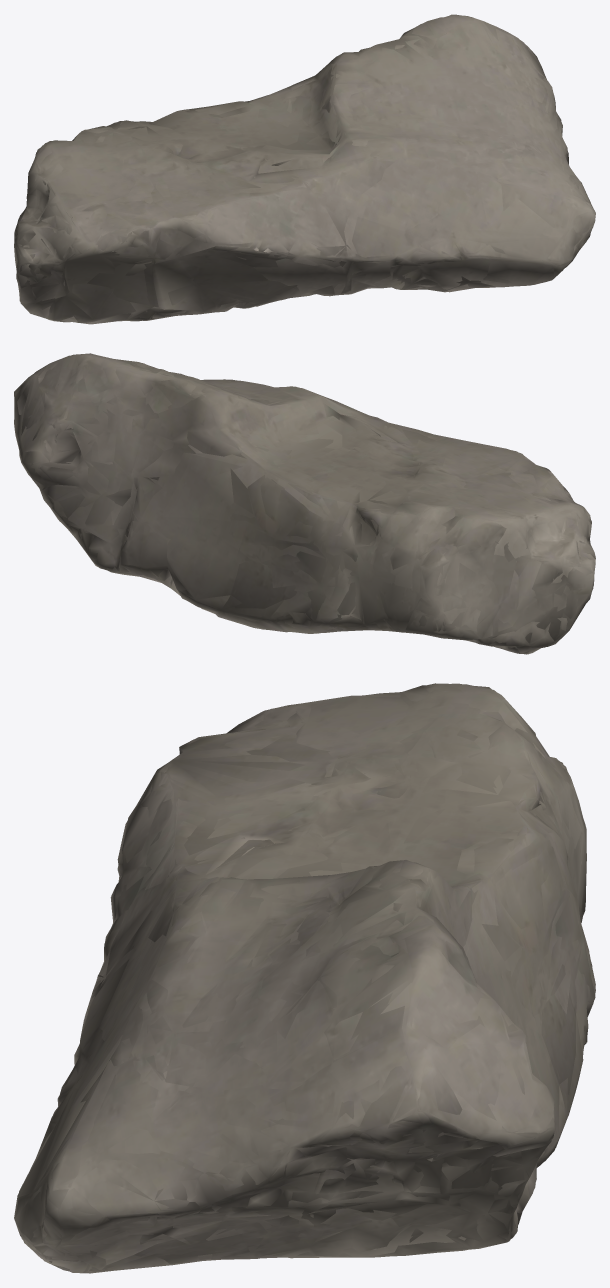
Rendered from moon_rock_01.glb.
3 views of the same model, one above another, from view 1: azimuth 30°, elevation 25°; view 2: azimuth 150°, elevation 25°; view 3: azimuth 270°, elevation 25° (orthographic). The views are drawn at different scales.
Parts seen in each view (by area): view 1: moon_rock_01_LOD0; view 2: moon_rock_01_LOD0; view 3: moon_rock_01_LOD0.
Part boxes in pixels (x1=…): moon_rock_01_LOD0: x1=14, y1=14, x2=595, y2=324; moon_rock_01_LOD0: x1=14, y1=353, x2=595, y2=654; moon_rock_01_LOD0: x1=14, y1=683, x2=595, y2=1273.
Size of the model in its own units: 0.2123 by 0.0753 by 0.1117.
1 material, 1 textured.
